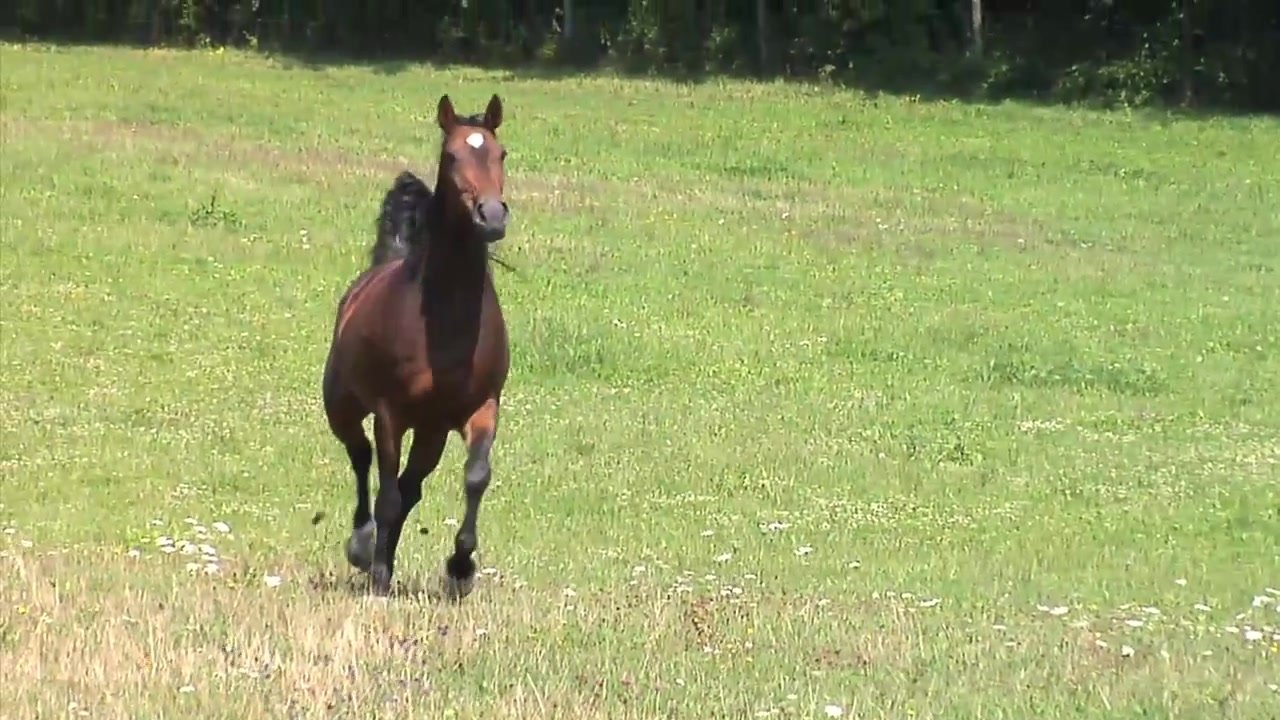horse: (322, 91, 515, 599)
